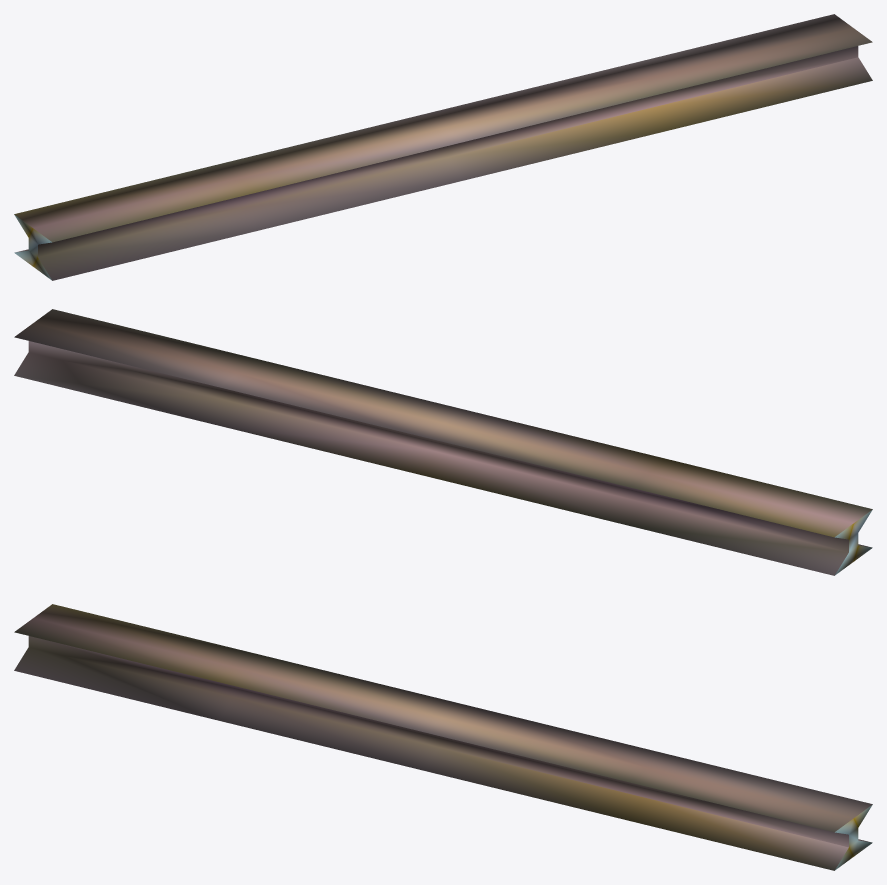
File: djfe.hrc.gltf
The picture shows the model from 3 angles, top to bottom: view 1: azimuth 30°, elevation 25°; view 2: azimuth 150°, elevation 25°; view 3: azimuth 330°, elevation 25°; orthographic projection.
Parts seen in each view (by area): view 1: djfeBone0_null; view 2: djfeBone0_null; view 3: djfeBone0_null.
Boxes of the visible parts, x1,y1,x2,y2 form: djfeBone0_null: (14, 14, 872, 280); djfeBone0_null: (14, 309, 872, 575); djfeBone0_null: (14, 604, 872, 870).
Bounding box in the file's own units: 161 × 7.24 × 13.13.
